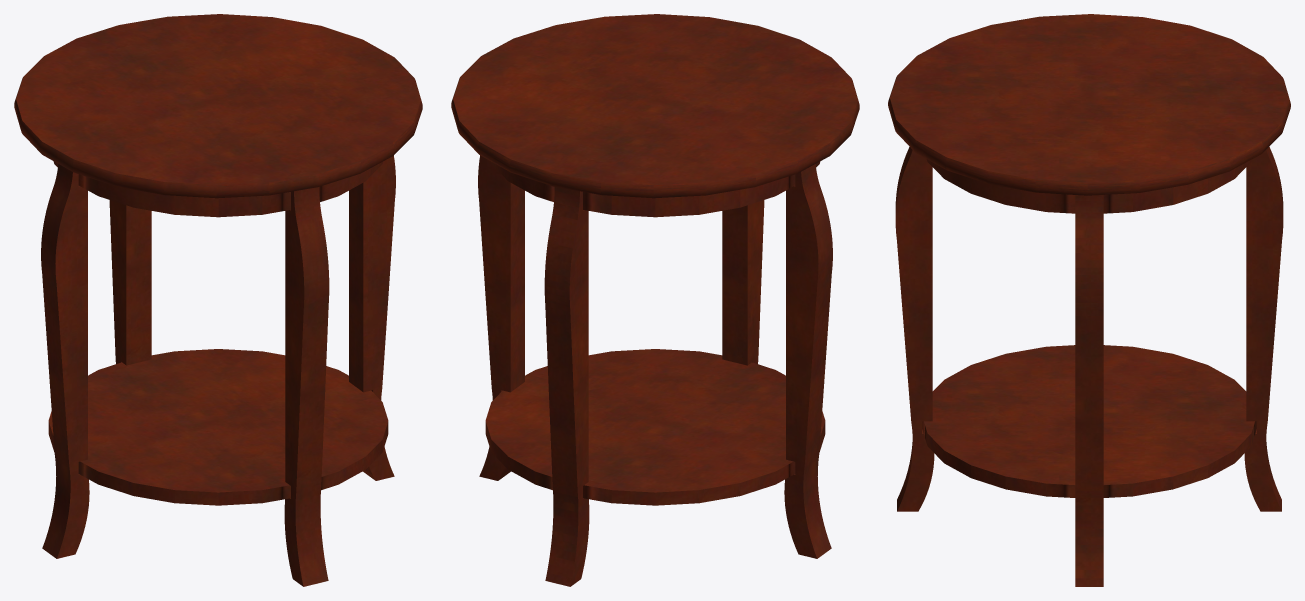
The model's file is side-table.dae.
3 views of the same model, side by side, from view 1: azimuth 30°, elevation 25°; view 2: azimuth 150°, elevation 25°; view 3: azimuth 270°, elevation 25° (orthographic).
Visible parts, largest first — view 1: Table-Side1; view 2: Table-Side1; view 3: Table-Side1.
Part boxes in pixels (x1,y1,x2,y2): Table-Side1: [14, 14, 422, 586]; Table-Side1: [451, 14, 859, 586]; Table-Side1: [888, 14, 1290, 586].
Bounding box in the file's own units: 28.25 × 28.25 × 31.5.
Materials: 1 (1 with a texture image).
